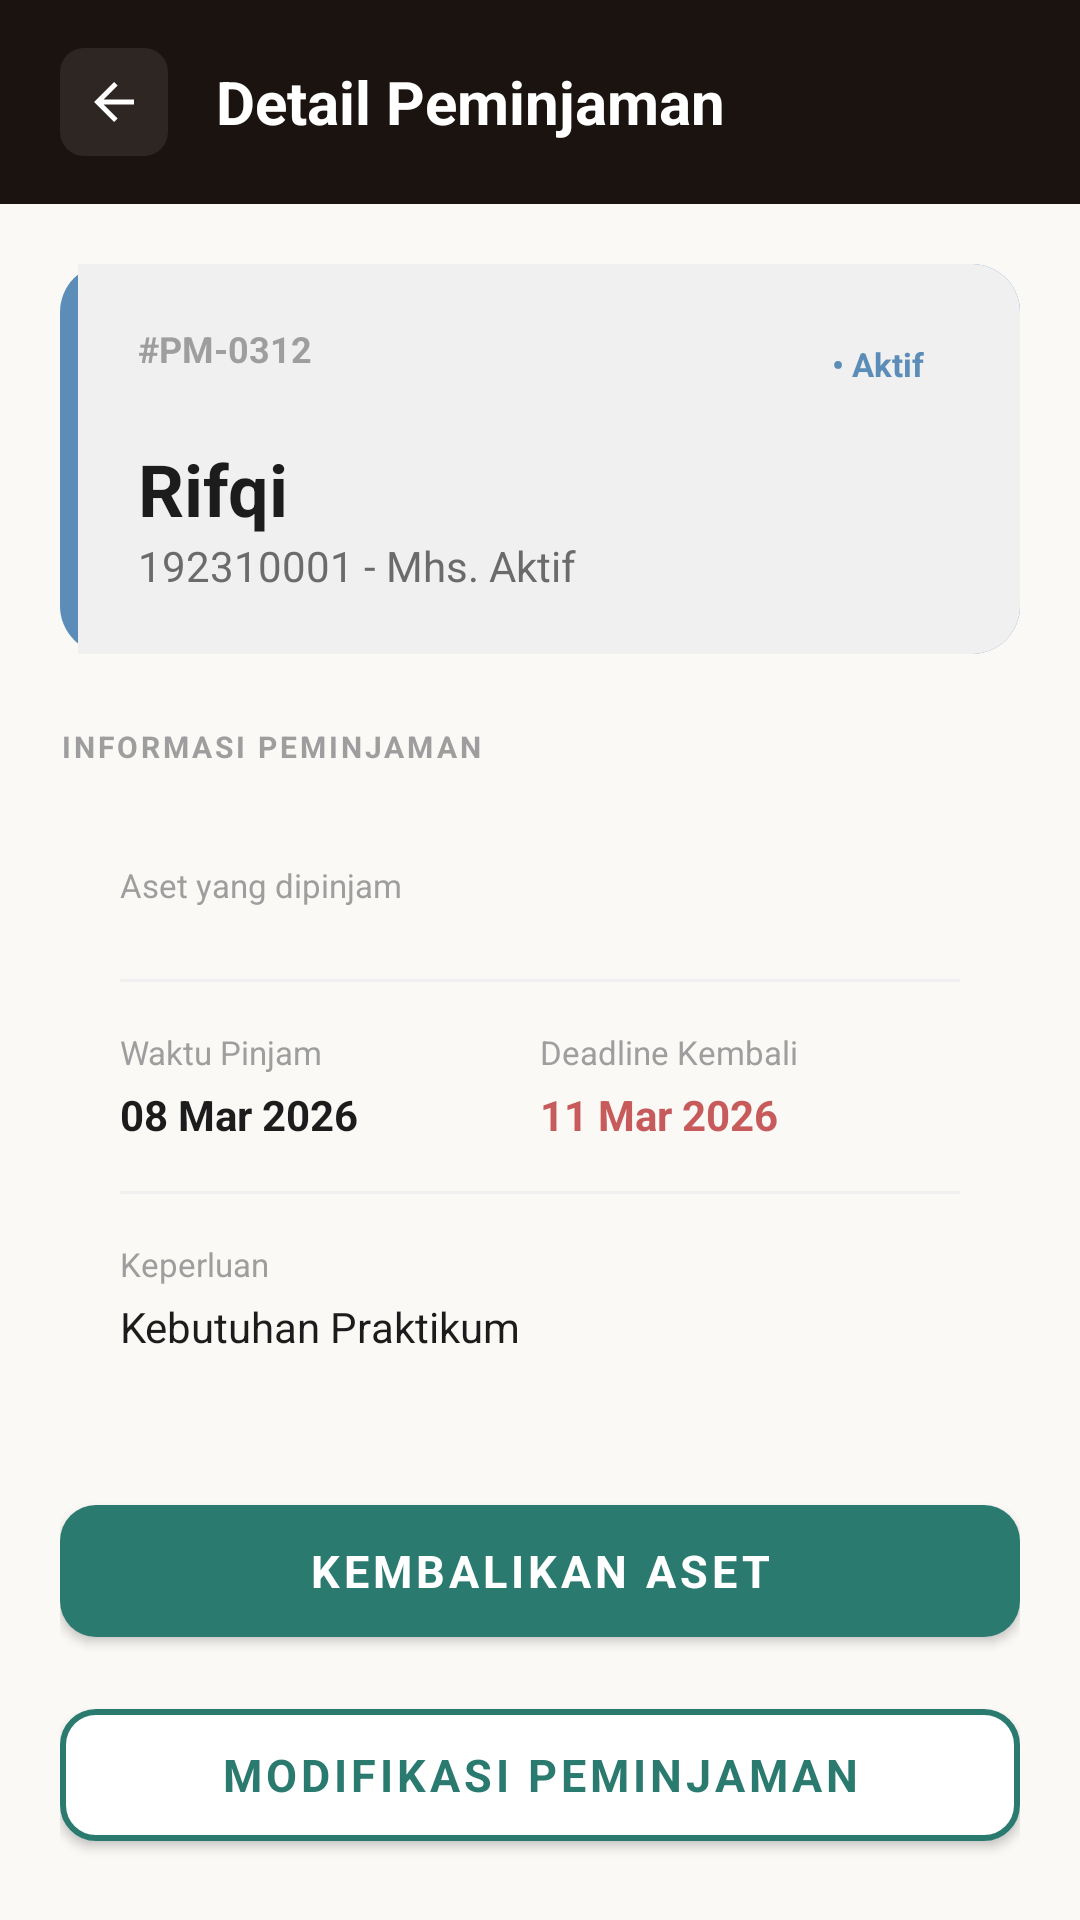

Where to tap for icons on this 1080x1920 app screen, as point (x, y):
ab back: point (114, 102)
